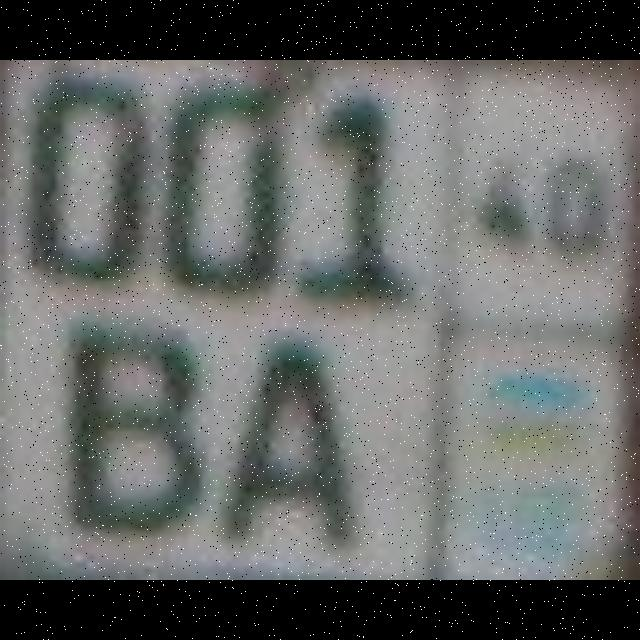0: (24, 72, 132, 274), (546, 154, 596, 248)
1: (308, 91, 402, 286)
4: (471, 160, 521, 236)
A: (220, 342, 344, 530), (162, 84, 270, 280)
B: (56, 323, 194, 524)
